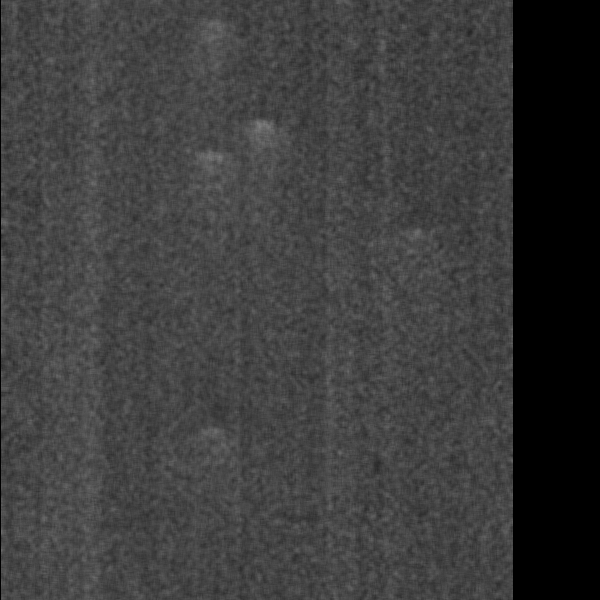spark: (185, 443, 230, 467), (5, 291, 24, 326), (493, 244, 525, 261), (6, 195, 24, 225), (3, 242, 22, 263)
